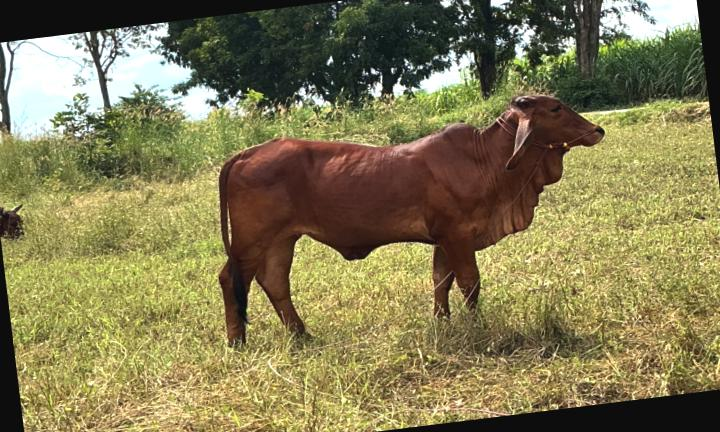Brahman: (219, 95, 604, 344)
